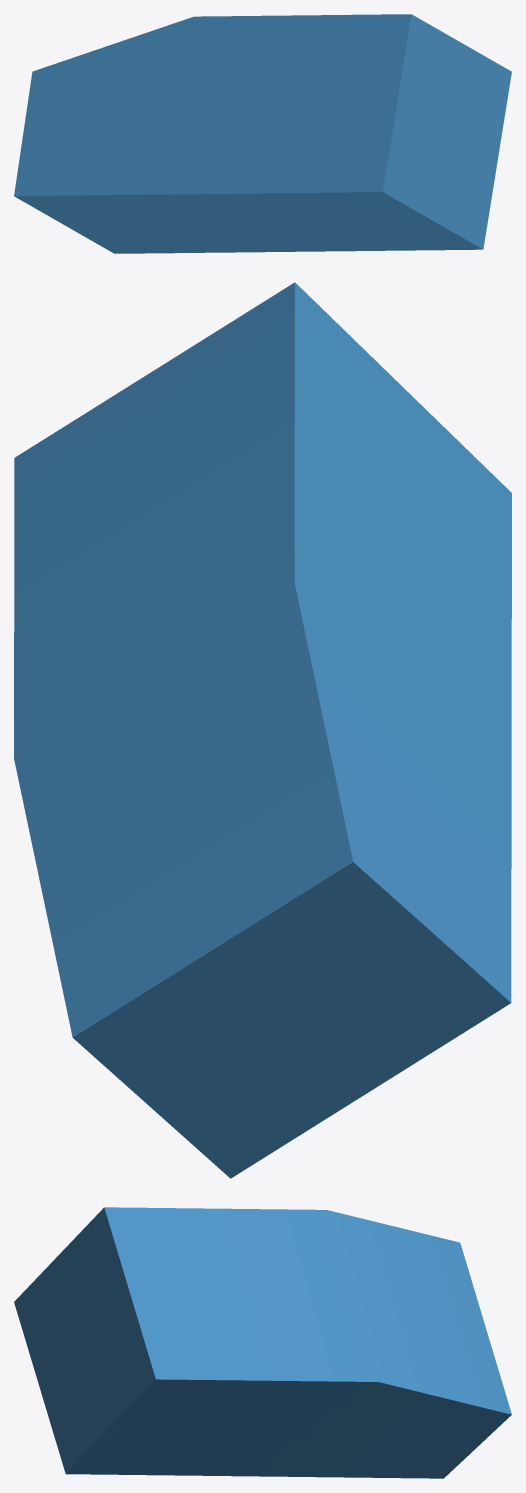
Rendered from Driver_Thumb_A_3.fbx.
3 views of the same model, one above another, from view 1: azimuth 30°, elevation 25°; view 2: azimuth 150°, elevation 25°; view 3: azimuth 270°, elevation 25° (orthographic). The views are drawn at different scales.
Parts seen in each view (by area): view 1: Driver_Thumb_A_3; view 2: Driver_Thumb_A_3; view 3: Driver_Thumb_A_3.
Boxes of the visible parts, left/top/right/bottom form: Driver_Thumb_A_3: left=14, top=14, right=511, bottom=253; Driver_Thumb_A_3: left=14, top=282, right=511, bottom=1178; Driver_Thumb_A_3: left=14, top=1207, right=511, bottom=1478.
Bounding box in the file's own units: 3.89 × 3.2 × 4.28.
